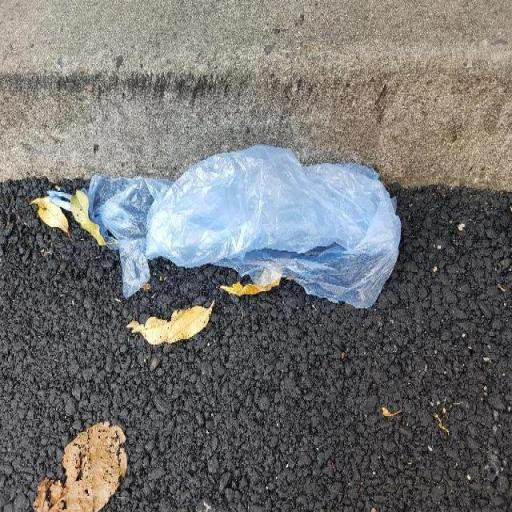plastic-bag: (50, 144, 400, 298)
